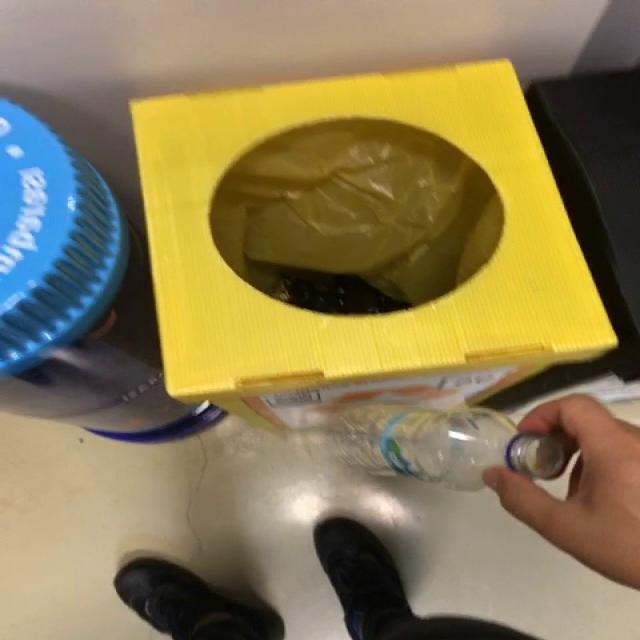plastic: (325, 405, 575, 490)
